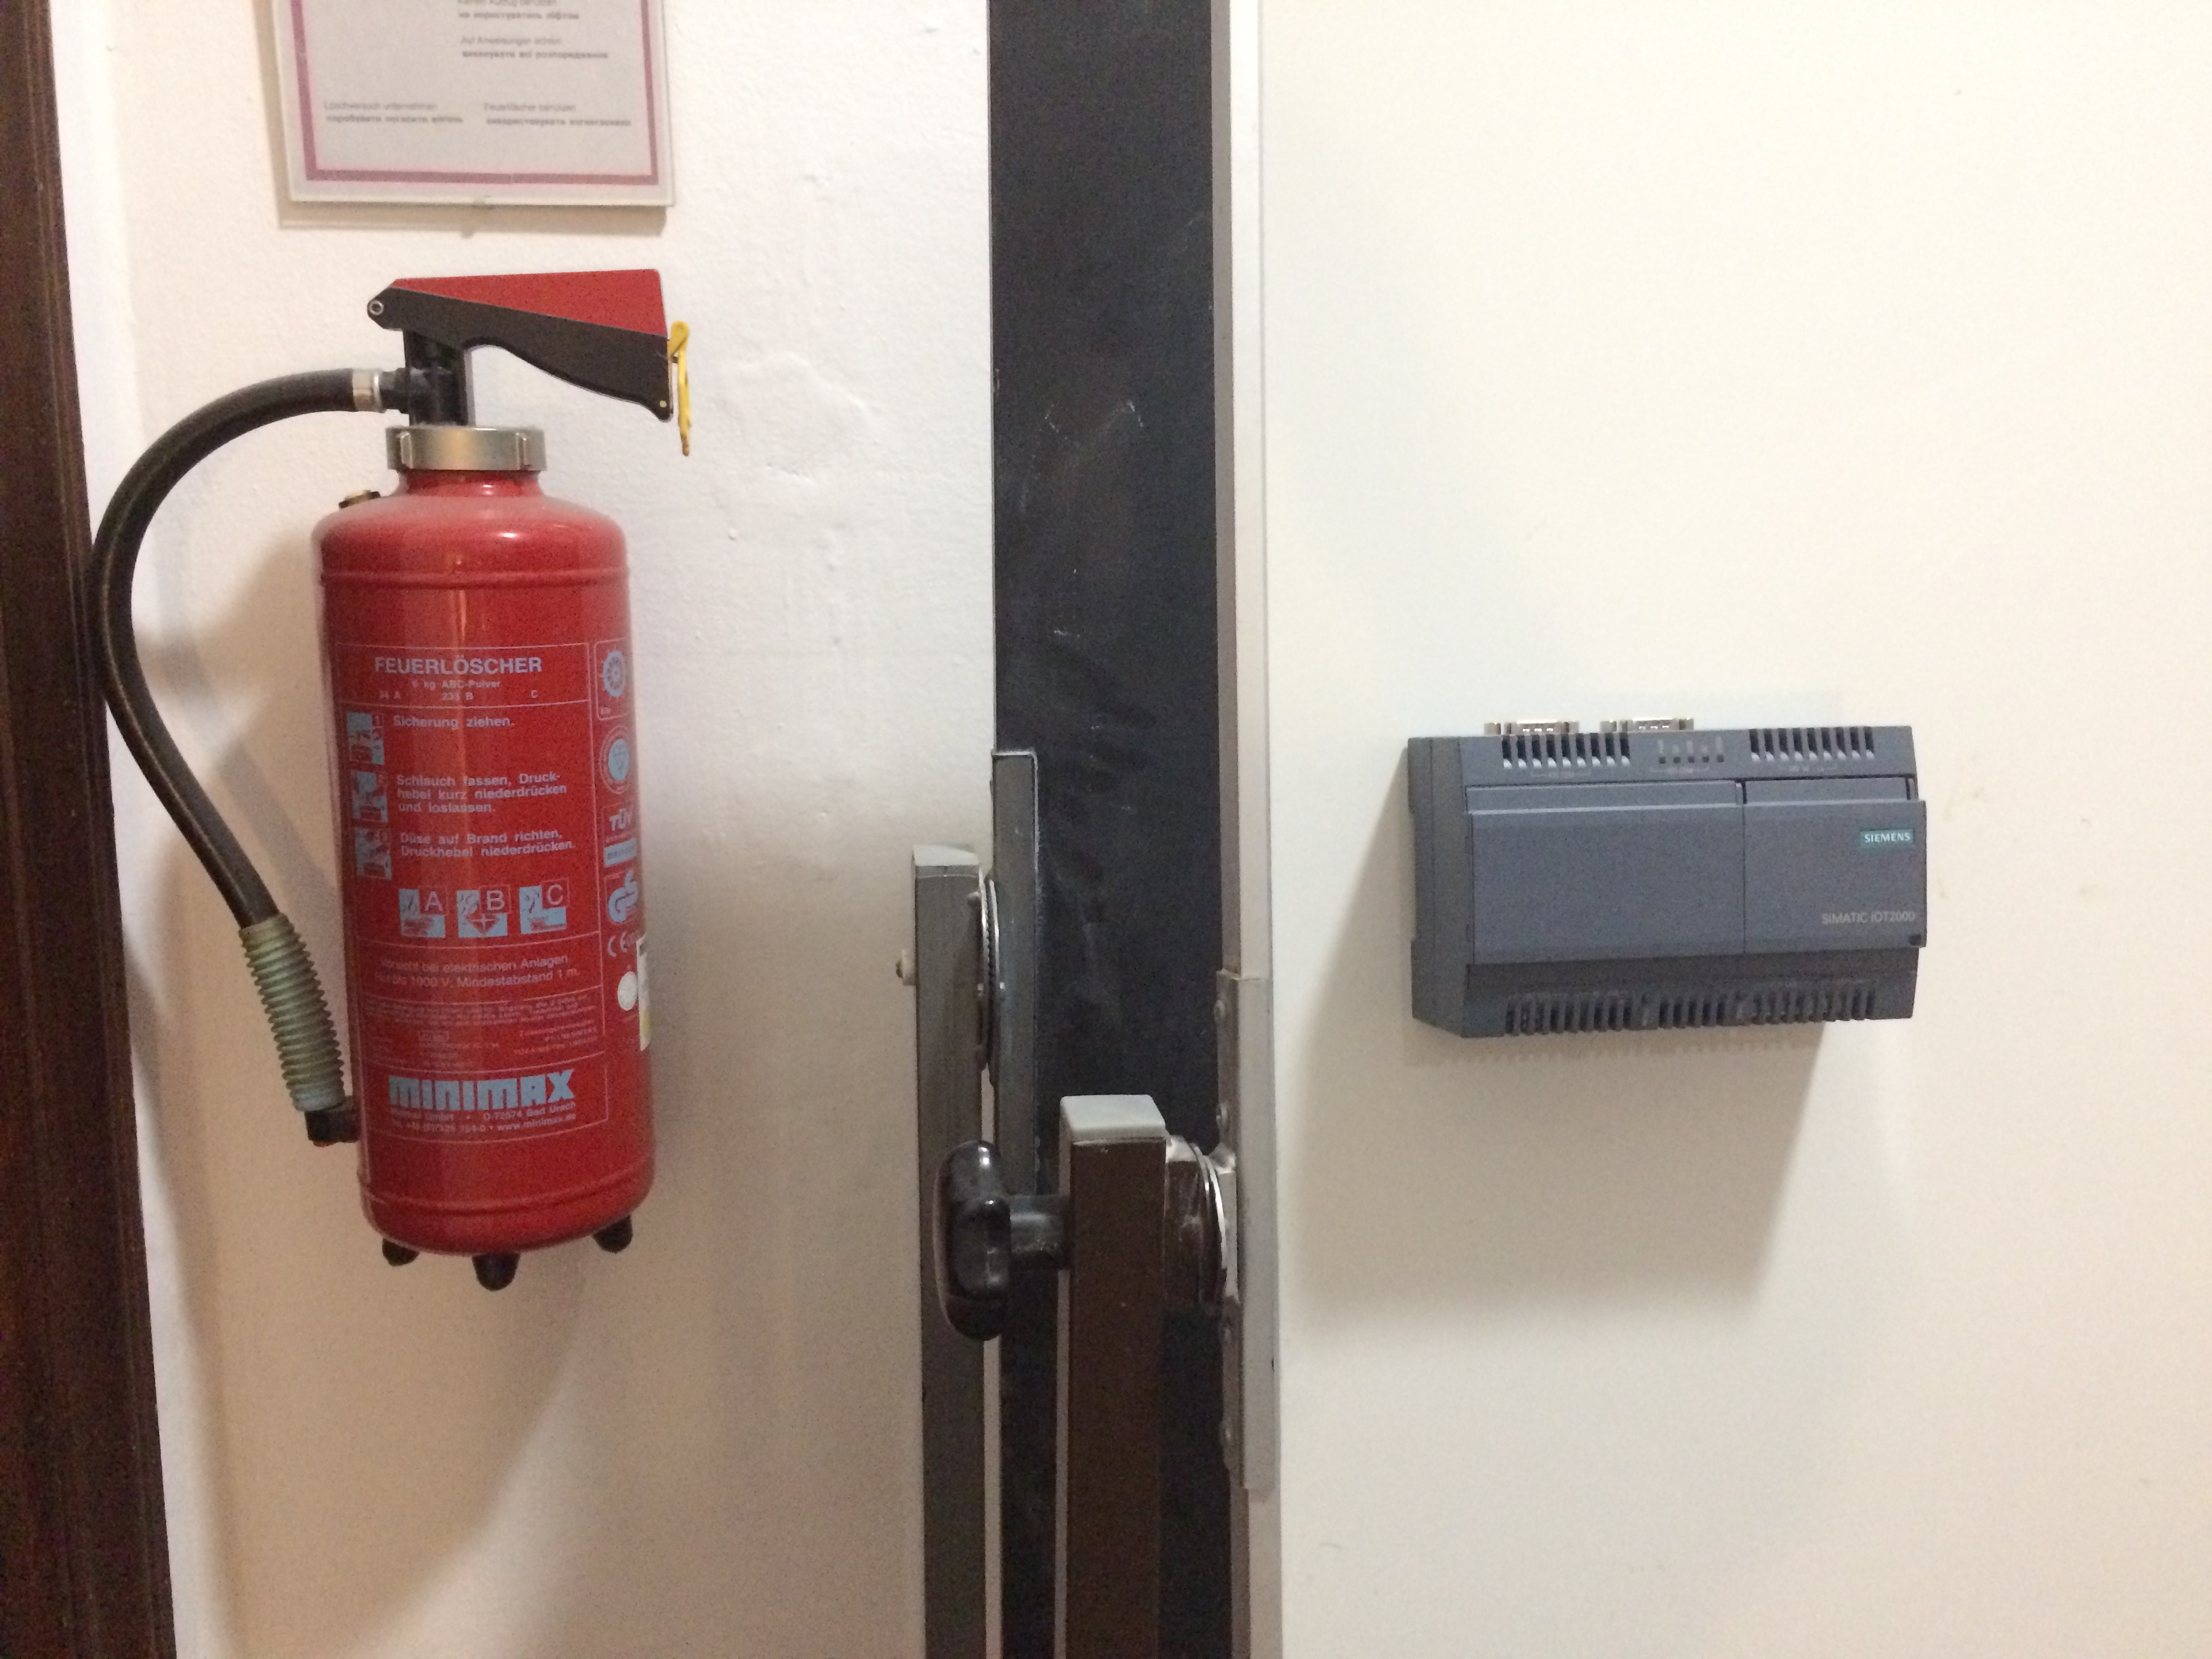iot2000: (1400, 714, 1932, 1044)
